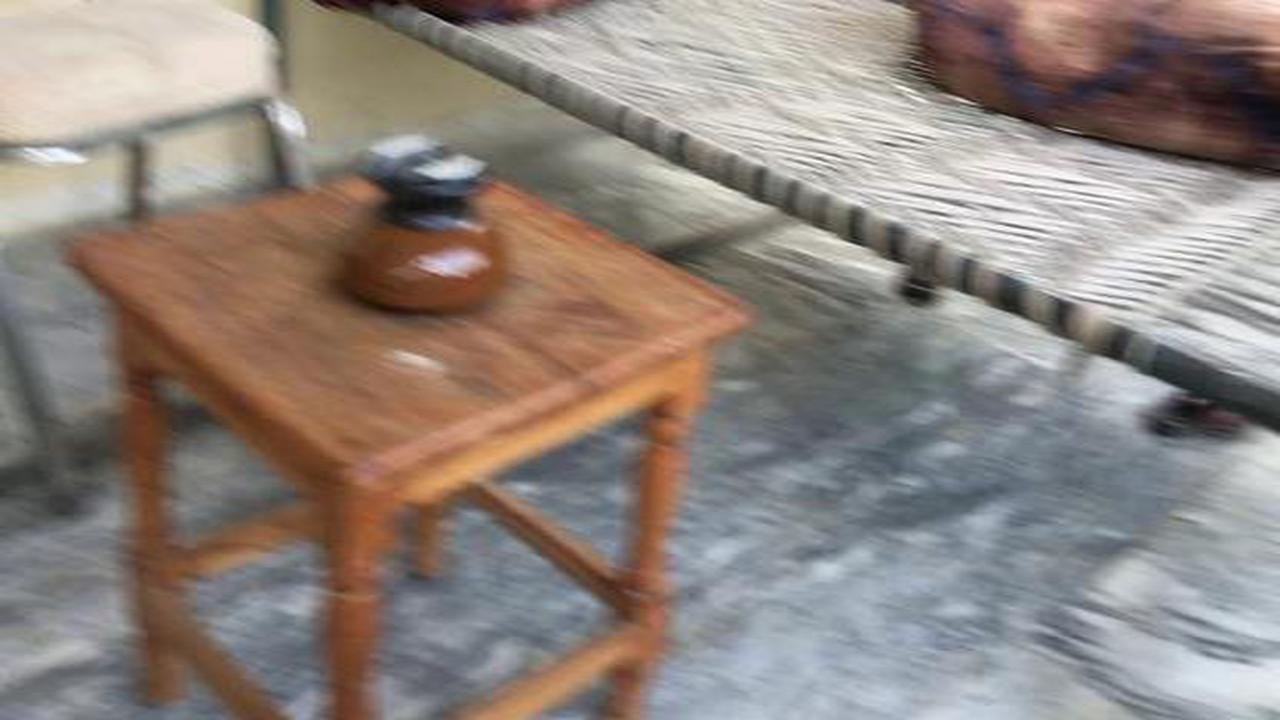insulator_pin: (314, 122, 542, 333)
